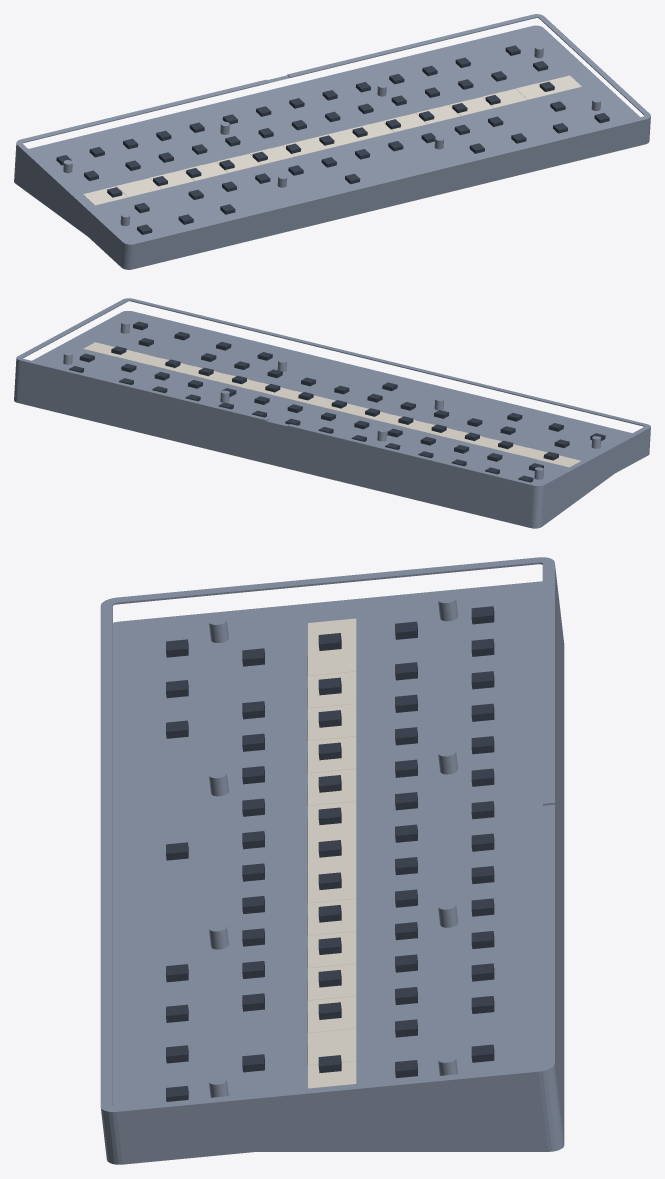
Rendered from reference-60.glb.
3 renders of one model, top to bottom at view 1: azimuth 30°, elevation 25°; view 2: azimuth 150°, elevation 25°; view 3: azimuth 270°, elevation 25°, orthographic. The views are drawn at different scales.
Parts seen in each view (by area): view 1: bottomCase/case-bottom, switches/switches, topCase/case-top, keycaps/keycaps-0, keycaps/keycaps-3, keycaps/keycaps-2, keycaps/keycaps-1; view 2: bottomCase/case-bottom, switches/switches, topCase/case-top, keycaps/keycaps-0, keycaps/keycaps-3, keycaps/keycaps-2; view 3: bottomCase/case-bottom, switches/switches, keycaps/keycaps-0, topCase/case-top, keycaps/keycaps-3, keycaps/keycaps-2, keycaps/keycaps-1.
Part boxes in pixels (box(x1,y1,x2,y2)): bottomCase/case-bottom: box(14, 14, 650, 263); switches/switches: box(56, 45, 609, 234); topCase/case-top: box(15, 131, 649, 269); keycaps/keycaps-0: box(116, 83, 548, 197); keycaps/keycaps-3: box(138, 88, 527, 191); keycaps/keycaps-2: box(83, 75, 581, 205); keycaps/keycaps-1: box(304, 129, 361, 151); bottomCase/case-bottom: box(14, 298, 650, 528); switches/switches: box(69, 321, 605, 482); topCase/case-top: box(15, 373, 649, 513); keycaps/keycaps-0: box(116, 350, 547, 459); keycaps/keycaps-3: box(138, 355, 526, 454); keycaps/keycaps-2: box(83, 342, 580, 467); bottomCase/case-bottom: box(100, 557, 564, 1151); switches/switches: box(166, 606, 494, 1101); keycaps/keycaps-0: box(307, 650, 356, 1065); topCase/case-top: box(105, 594, 560, 1164); keycaps/keycaps-3: box(308, 671, 356, 1044); keycaps/keycaps-2: box(308, 618, 356, 1088); keycaps/keycaps-1: box(307, 833, 356, 882).
Bounding box in the file's own units: 9887442 × 931073 × 3767380.
